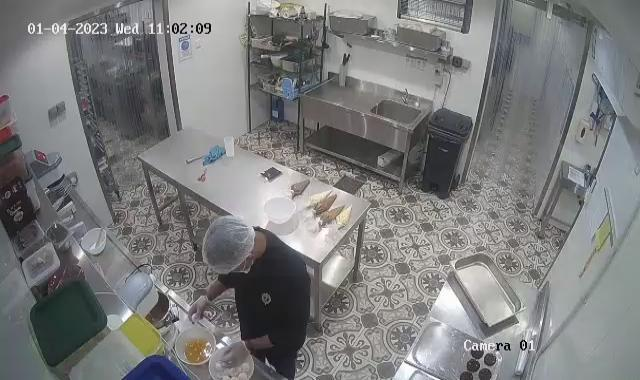hairnet: (202, 212, 256, 278)
